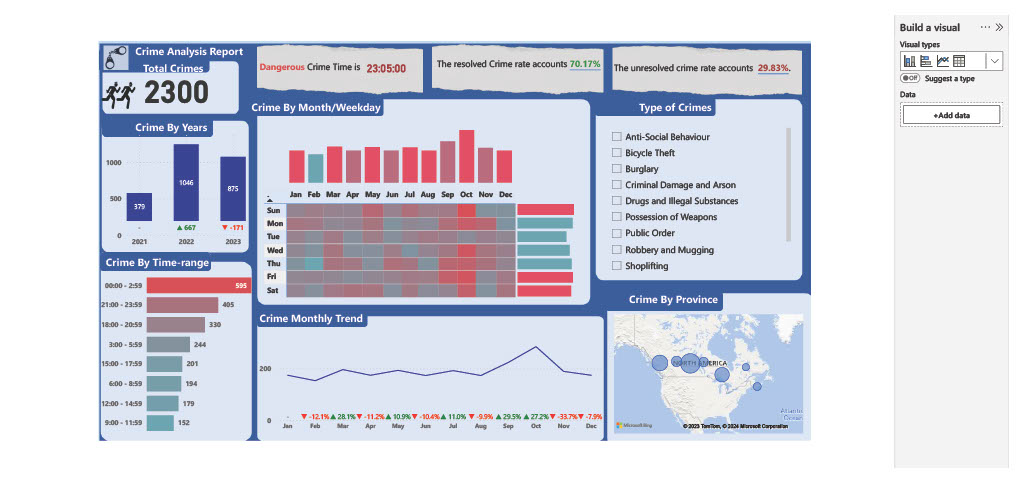

The dashboard page shown, as its layout file describes it:
{"tool":"powerbi","page":{"name":"Report","canvas":[1580,720],"ordinal":0},"visuals":[{"type":"card","fields":{"Values":["Calculations.Total Crime"]},"box":[136.2,12.5,307.5,142.5],"z":0},{"type":"columnChart","fields":{"Category":["DateTable.Year"],"Y":["Calculations.Blank Measure(Year)","Calculations.Total Crime"]},"box":[157.5,151.2,261.2,227.5],"z":1000},{"type":"lineChart","fields":{"Category":["DateTable.Month"],"Y":["Calculations.Blank Measure(Month)","Calculations.Total Crime"]},"box":[433.8,527.5,626.2,182.5],"z":2000},{"type":"clusteredBarChart","fields":{"Category":["Crimes Data.Time Group"],"Y":["Calculations.Total Crime"]},"box":[147.5,397.5,307.5,322.5],"z":3000},{"type":"pivotTable","fields":{"Rows":["DateTable.Weekday"],"Columns":["DateTable.Month"],"Values":["Calculations.Total Crime"]},"box":[443.3,260,480,213.3],"z":4000},{"type":"clusteredColumnChart","fields":{"Category":["DateTable.Month"],"Y":["Calculations.Total Crime"]},"box":[487.8,141.1,410,118.9],"z":5000},{"type":"clusteredBarChart","fields":{"Category":["DateTable.Weekday"],"Y":["Calculations.Total Crime"]},"box":[897.5,280,127.5,183.8],"z":6000},{"type":"textbox","box":[1071.2,28.8,366.2,40],"z":7000},{"type":"textbox","box":[753,25,318,43],"z":8000},{"type":"map","fields":{"Category":["Crimes Data.Country"],"Size":["Calculations.Total Crime"]},"box":[1071.2,486.2,350,223.8],"z":9000},{"type":"card","fields":{"Values":["Min(Crimes Data.Crime Time)"]},"box":[605,30,123.8,37.5],"z":10000},{"type":"textbox","box":[433.8,30,225,35],"z":11000},{"type":"slicer","title":"Types of Crime","fields":{"Values":["Crime Types.Crime"]},"box":[1060,151,339,277],"z":12000},{"type":"textbox","box":[225,30,129,42],"z":13000},{"type":"textbox","box":[211.1,135.6,180,37.8],"z":14000},{"type":"textbox","box":[157.8,378.9,214.4,36.7],"z":15000},{"type":"textbox","box":[434,480,206,48],"z":16000},{"type":"textbox","box":[420,100,253.3,35.6],"z":17000},{"type":"textbox","box":[1098,445,192,41],"z":18000},{"type":"textbox","box":[1115.6,100,156.7,35.6],"z":19000},{"type":"textbox","box":[211,0,223,43],"z":19001}]}

Visuals, with their boxes on the page's 1580x720 design canvas (x1, y1, x2, y2). These are canvas units, not pixel positions in the 1024x483 screenshot, which may show the page scaled, cropped or inside an application window:
card - Calculations.Total Crime: x1=136 y1=12 x2=444 y2=155
columnChart - DateTable.Year x Calculations.Blank Measure(Year): x1=158 y1=151 x2=419 y2=379
lineChart - DateTable.Month x Calculations.Blank Measure(Month): x1=434 y1=528 x2=1060 y2=710
clusteredBarChart - Crimes Data.Time Group x Calculations.Total Crime: x1=148 y1=398 x2=455 y2=720
pivotTable - DateTable.Weekday x DateTable.Month: x1=443 y1=260 x2=923 y2=473
clusteredColumnChart - DateTable.Month x Calculations.Total Crime: x1=488 y1=141 x2=898 y2=260
clusteredBarChart - DateTable.Weekday x Calculations.Total Crime: x1=898 y1=280 x2=1025 y2=464
textbox: x1=1071 y1=29 x2=1437 y2=69
textbox: x1=753 y1=25 x2=1071 y2=68
map - Crimes Data.Country x Calculations.Total Crime: x1=1071 y1=486 x2=1421 y2=710
card - Min(Crimes Data.Crime Time): x1=605 y1=30 x2=729 y2=68
textbox: x1=434 y1=30 x2=659 y2=65
"Types of Crime" slicer: x1=1060 y1=151 x2=1399 y2=428
textbox: x1=225 y1=30 x2=354 y2=72
textbox: x1=211 y1=136 x2=391 y2=173
textbox: x1=158 y1=379 x2=372 y2=416
textbox: x1=434 y1=480 x2=640 y2=528
textbox: x1=420 y1=100 x2=673 y2=136
textbox: x1=1098 y1=445 x2=1290 y2=486
textbox: x1=1116 y1=100 x2=1272 y2=136
textbox: x1=211 y1=0 x2=434 y2=43
